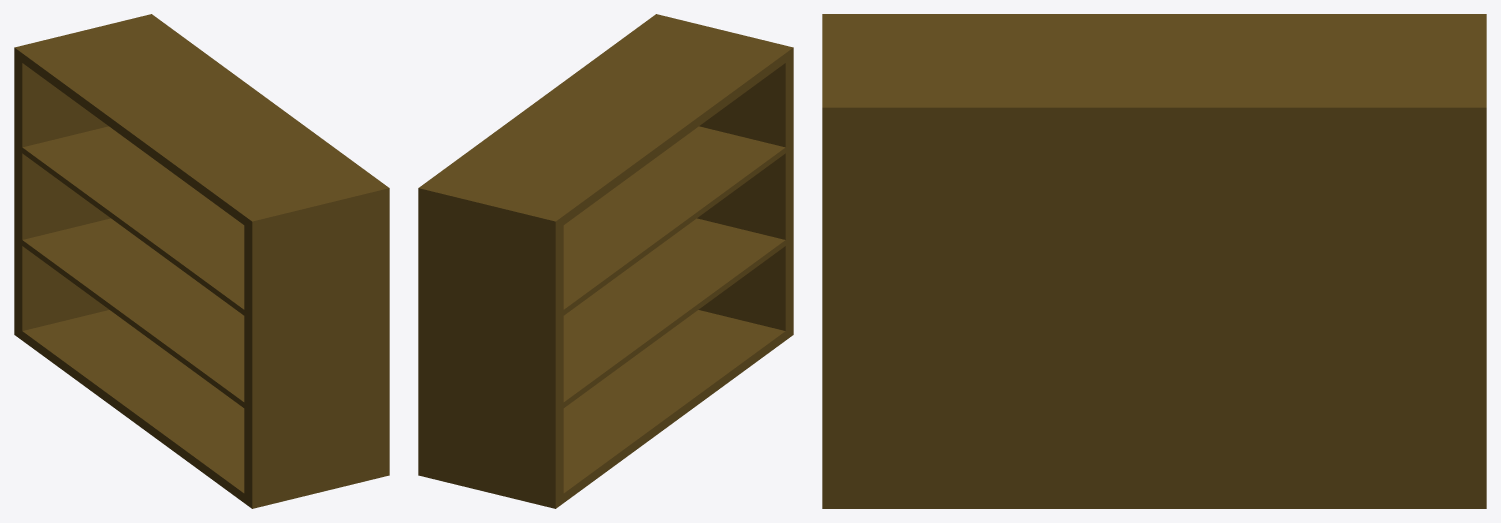
File: Shelf.fbx
3 renders of one model, left to right at view 1: azimuth 30°, elevation 25°; view 2: azimuth 150°, elevation 25°; view 3: azimuth 270°, elevation 25°, orthographic. The views are drawn at different scales.
Parts seen in each view (by area): view 1: pCube289; view 2: pCube289; view 3: pCube289.
Boxes of the visible parts, x1,y1,x2,y2 form: pCube289: [14, 14, 389, 508]; pCube289: [418, 14, 793, 508]; pCube289: [822, 14, 1486, 508].
Size of the model in its own units: 1 by 2 by 3.
